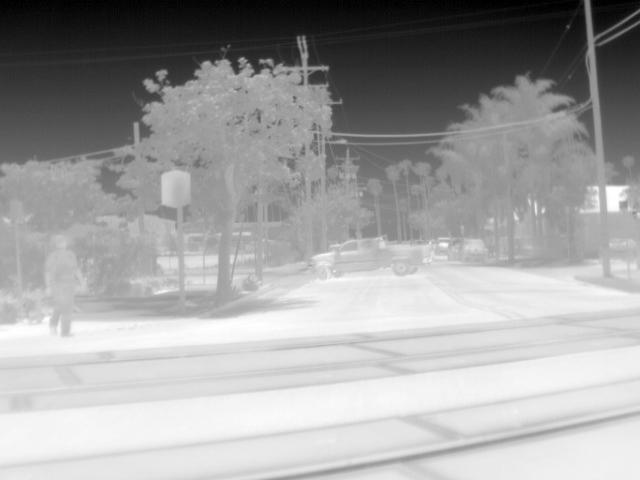car: (307, 236, 435, 282), (452, 236, 490, 262), (427, 236, 455, 258), (610, 236, 628, 261), (628, 238, 640, 260)
person: (42, 233, 90, 339)
